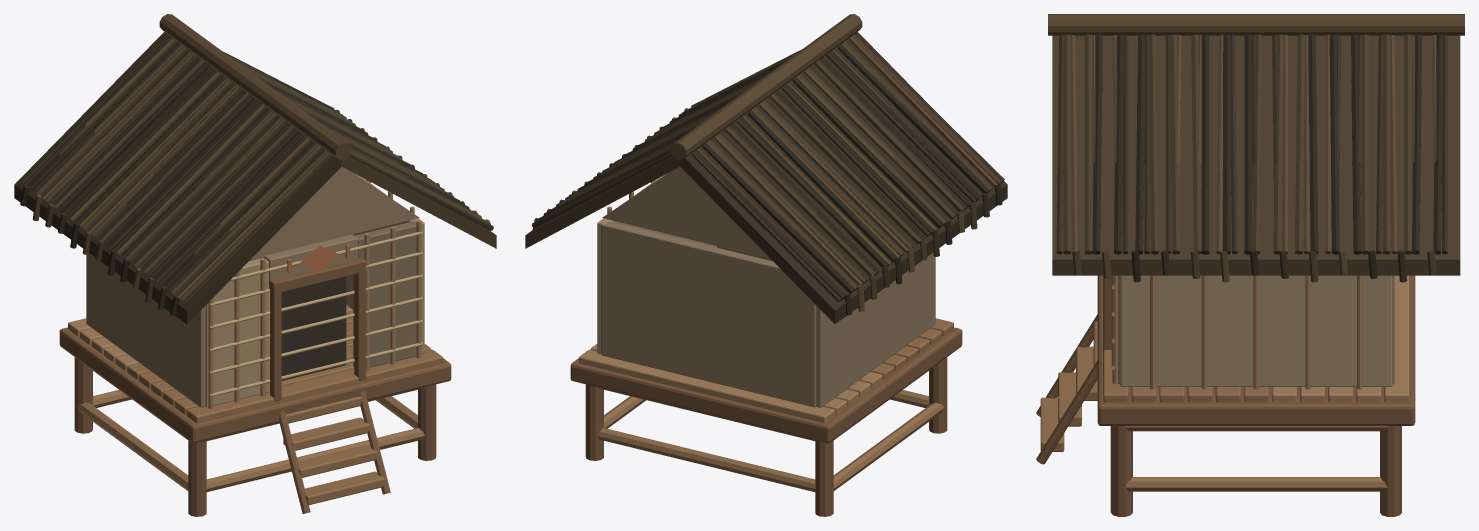
File: choupana_palha_escura.glb
3 renders of one model, left to right at view 1: azimuth 30°, elevation 25°; view 2: azimuth 150°, elevation 25°; view 3: azimuth 270°, elevation 25°, orthographic. The views are drawn at different scales.
Parts seen in each view (by area): view 1: Choupana de palha escura | Palha escura 0, Choupana de palha escura | Palha escura 1, Choupana de palha escura | Madeira escura 0, Choupana de palha escura | Trama de taquara 0, Choupana de palha escura | Madeira escura 1, Choupana de palha escura | Palha escura 3, Choupana de palha escura | Palha escura 2, Choupana de palha escura | Trama de taquara 1, Painel frontal direito, Choupana de palha escura | Madeira escura 2, Vão escuro da porta, Choupana de palha escura | Corda vegetal (+1 smaller); view 2: Choupana de palha escura | Trama de taquara 0, Choupana de palha escura | Palha escura 0, Choupana de palha escura | Palha escura 1, Choupana de palha escura | Palha escura 3, Choupana de palha escura | Madeira escura 0, Choupana de palha escura | Palha escura 2, Choupana de palha escura | Madeira escura 1, Choupana de palha escura | Madeira escura 2, Choupana de palha escura | Trama de taquara 1; view 3: Choupana de palha escura | Palha escura 1, Choupana de palha escura | Trama de taquara 1, Choupana de palha escura | Palha escura 2, Choupana de palha escura | Palha escura 3, Choupana de palha escura | Madeira escura 0, Choupana de palha escura | Palha escura 0, Choupana de palha escura | Madeira escura 1, Choupana de palha escura | Madeira escura 2.
Boxes of the visible parts, x1,y1,x2,y2 form: Choupana de palha escura | Palha escura 0: [14, 32, 493, 324]; Choupana de palha escura | Palha escura 1: [36, 46, 496, 303]; Choupana de palha escura | Madeira escura 0: [59, 258, 451, 516]; Choupana de palha escura | Trama de taquara 0: [86, 167, 419, 407]; Choupana de palha escura | Madeira escura 1: [76, 311, 442, 505]; Choupana de palha escura | Palha escura 3: [20, 36, 477, 316]; Choupana de palha escura | Palha escura 2: [32, 14, 477, 299]; Choupana de palha escura | Trama de taquara 1: [205, 174, 424, 407]; Painel frontal direito: [353, 221, 416, 367]; Choupana de palha escura | Madeira escura 2: [68, 180, 421, 409]; Vão escuro da porta: [281, 277, 346, 380]; Choupana de palha escura | Corda vegetal: [209, 231, 422, 396]; Choupana de palha escura | Trama de taquara 0: [601, 167, 935, 407]; Choupana de palha escura | Palha escura 0: [531, 32, 1007, 324]; Choupana de palha escura | Palha escura 1: [525, 34, 1001, 299]; Choupana de palha escura | Palha escura 3: [534, 44, 1002, 315]; Choupana de palha escura | Madeira escura 0: [570, 327, 962, 516]; Choupana de palha escura | Palha escura 2: [556, 14, 997, 311]; Choupana de palha escura | Madeira escura 1: [597, 318, 953, 491]; Choupana de palha escura | Madeira escura 2: [579, 180, 882, 422]; Choupana de palha escura | Trama de taquara 1: [597, 174, 716, 354]; Choupana de palha escura | Palha escura 1: [1052, 34, 1460, 282]; Choupana de palha escura | Trama de taquara 1: [1120, 275, 1392, 386]; Choupana de palha escura | Palha escura 2: [1048, 14, 1464, 282]; Choupana de palha escura | Palha escura 3: [1092, 34, 1443, 282]; Choupana de palha escura | Madeira escura 0: [1036, 275, 1415, 516]; Choupana de palha escura | Palha escura 0: [1056, 34, 1447, 282]; Choupana de palha escura | Madeira escura 1: [1040, 321, 1390, 491]; Choupana de palha escura | Madeira escura 2: [1112, 275, 1409, 402].
Size of the model in its own units: 2.95 by 3.22 by 2.9.
